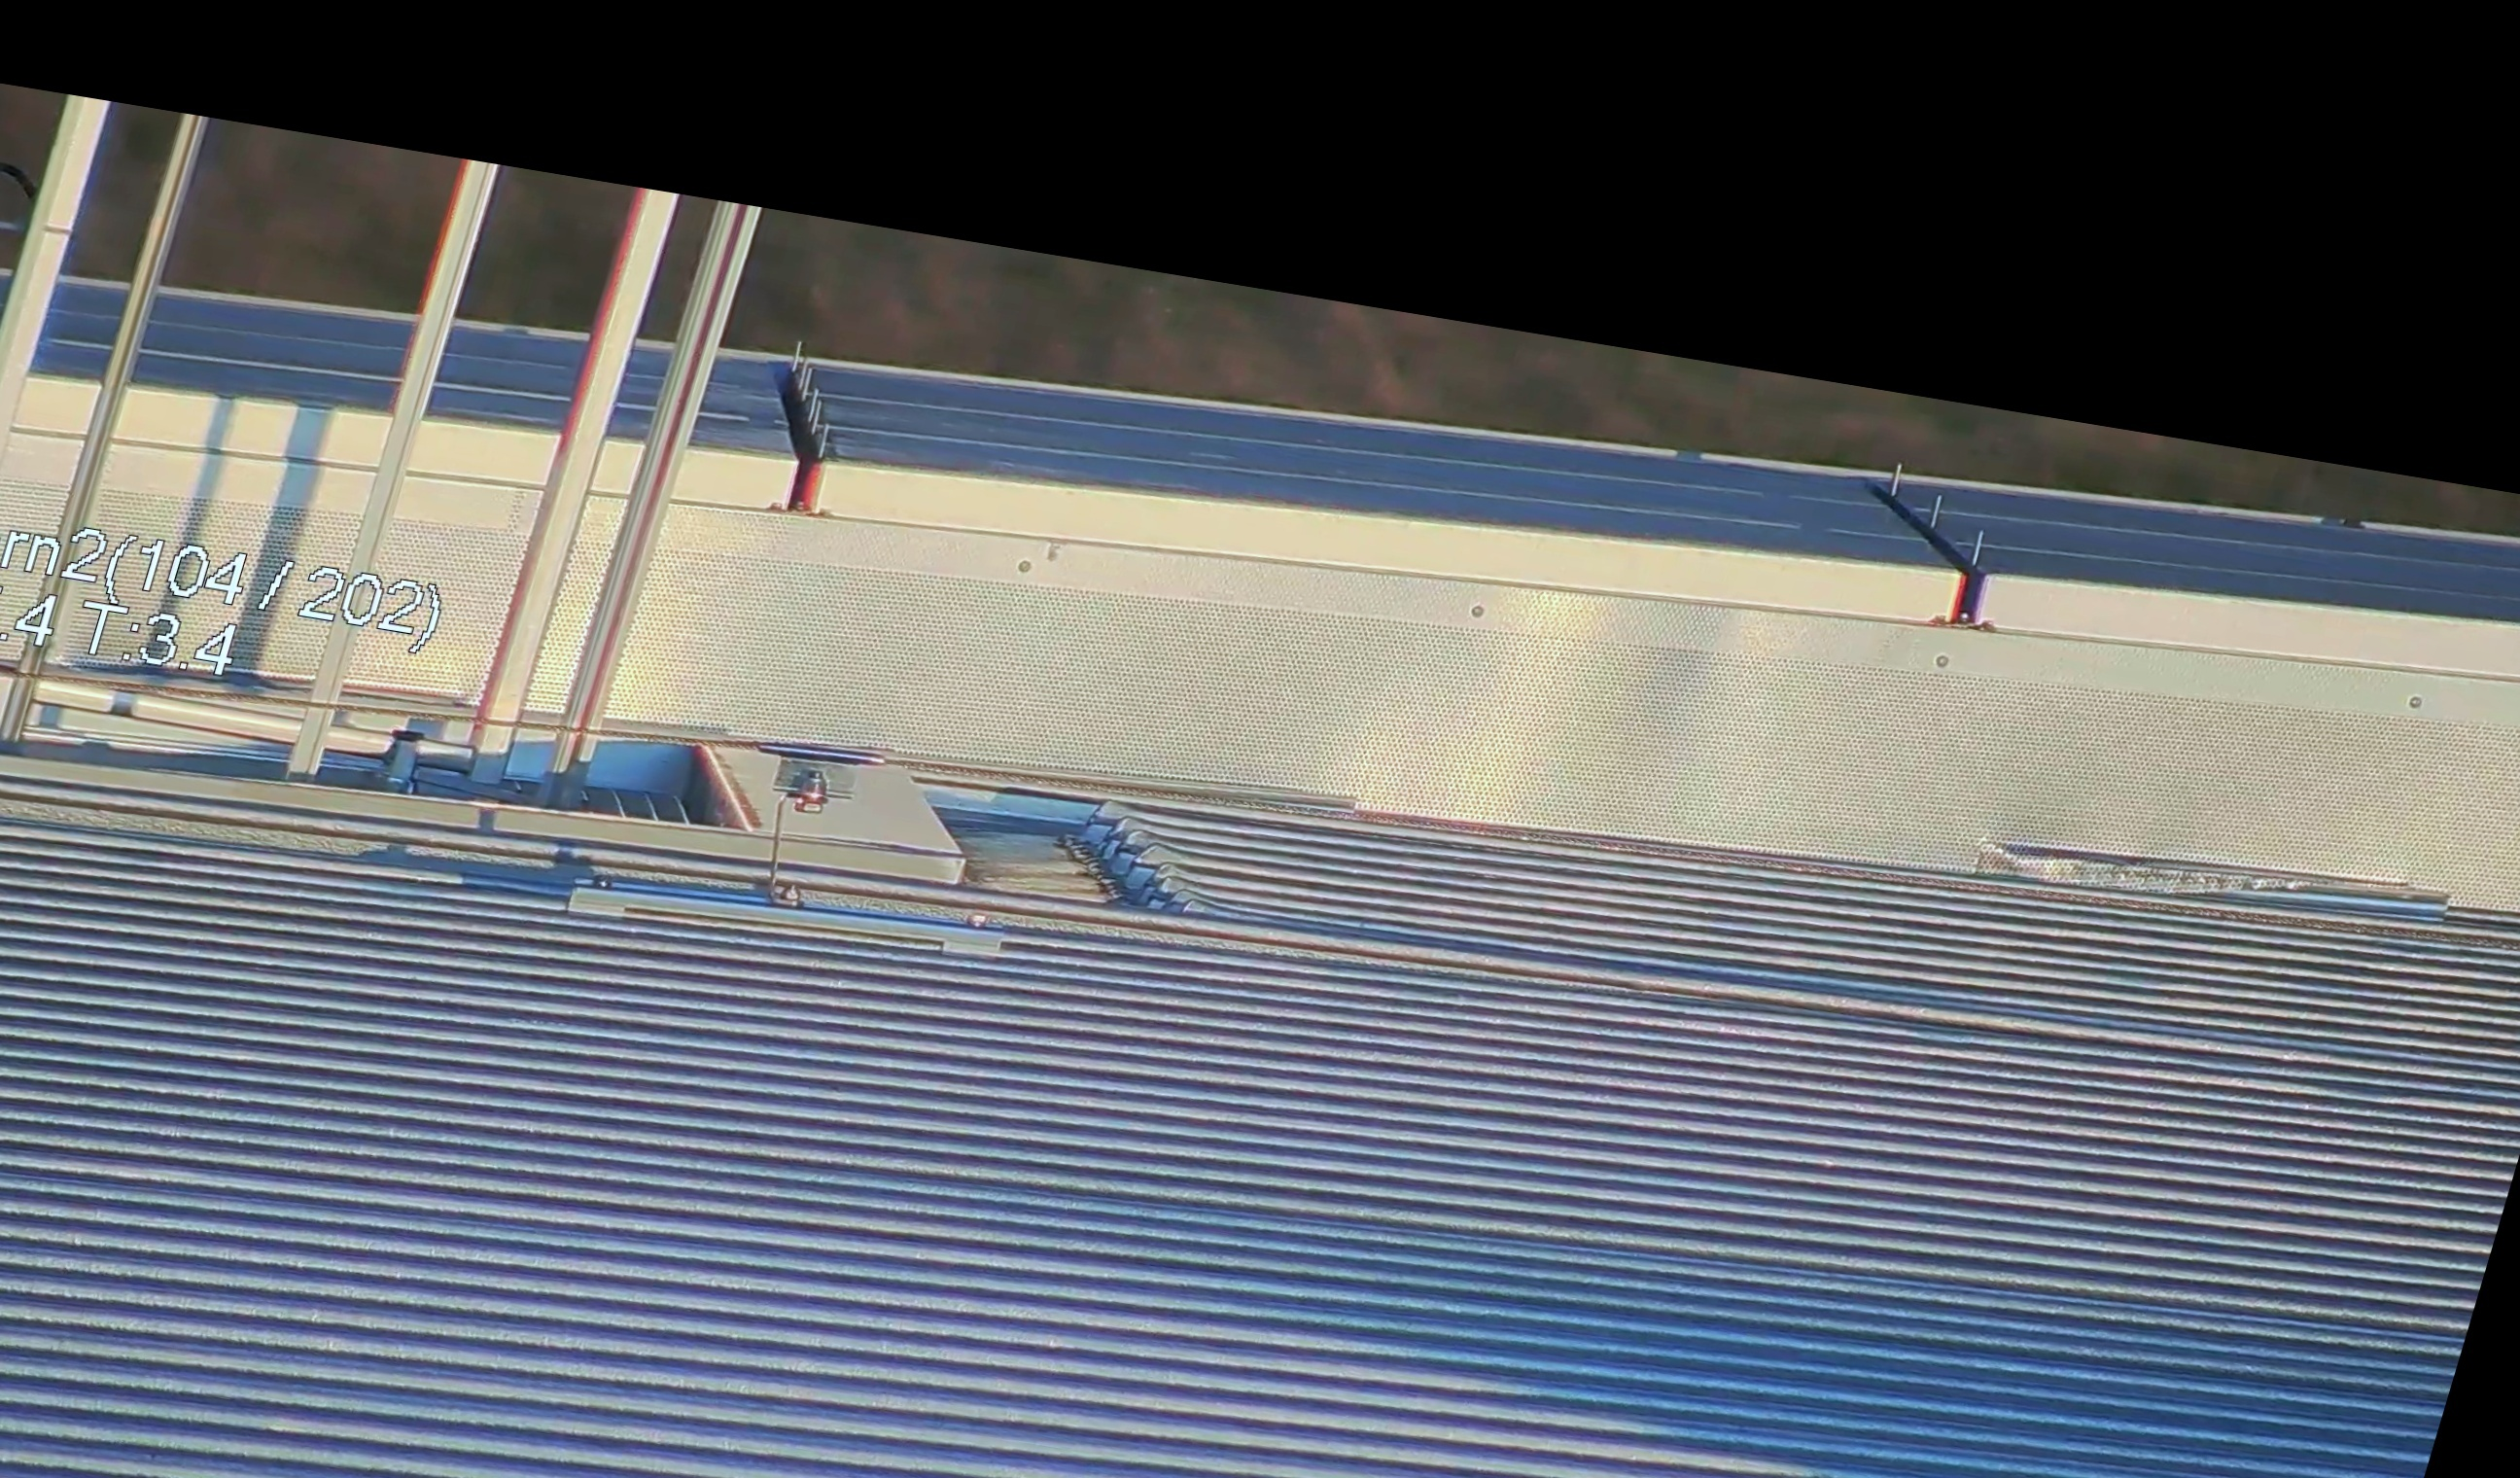Other: (716, 338, 876, 528)
